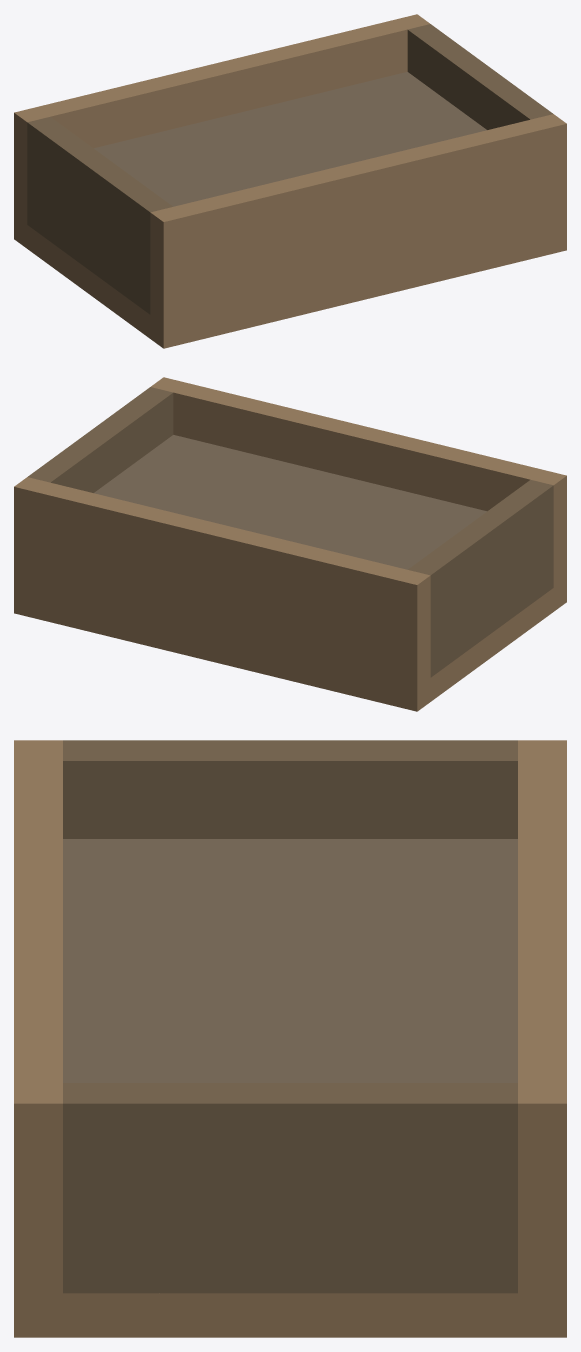
Rendered from env_shanty_plot_box.glb.
3 views of the same model, one above another, from view 1: azimuth 30°, elevation 25°; view 2: azimuth 150°, elevation 25°; view 3: azimuth 270°, elevation 25° (orthographic). The views are drawn at different scales.
Parts seen in each view (by area): view 1: env_shanty_plot_box; view 2: env_shanty_plot_box; view 3: env_shanty_plot_box.
Boxes of the visible parts, bbox=[...] form: env_shanty_plot_box: bbox=[14, 14, 566, 348]; env_shanty_plot_box: bbox=[14, 377, 566, 711]; env_shanty_plot_box: bbox=[14, 740, 566, 1337].
Bounding box in the file's own units: 1.4 × 0.42 × 0.9.
